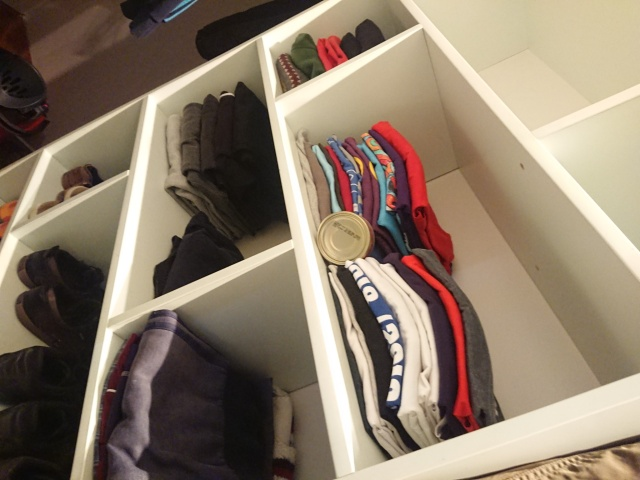Giana Tuna Salad Mexico 185g: (314, 209, 377, 267)
